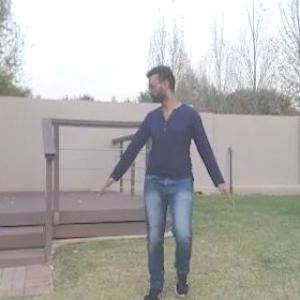land: (102, 67, 228, 299)
